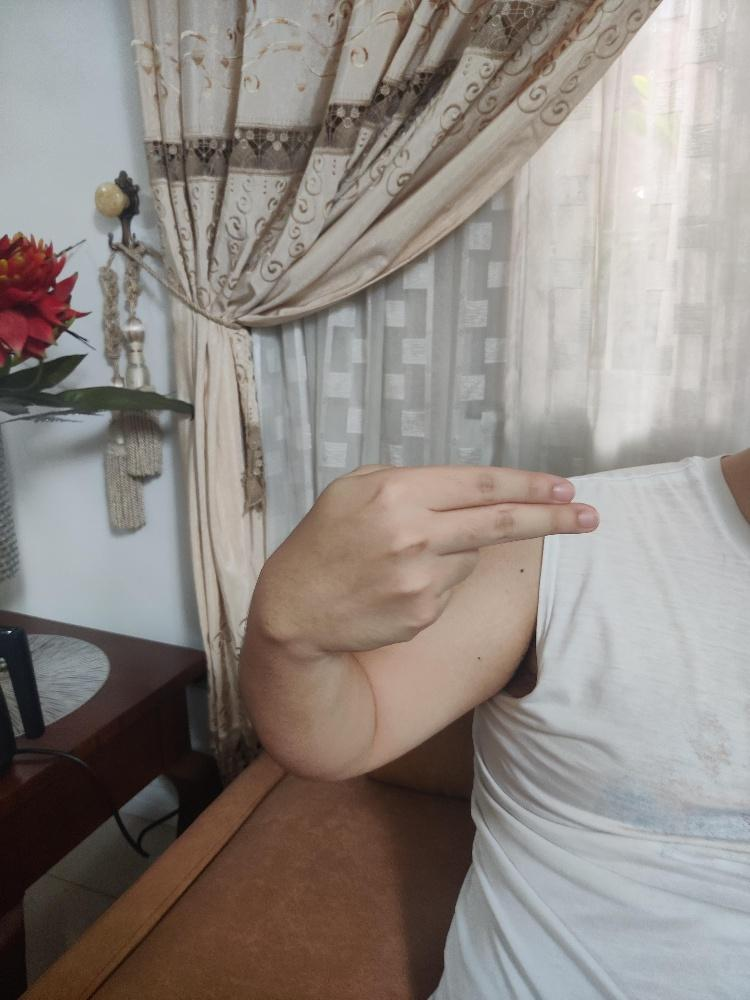h: (255, 456, 601, 654)
